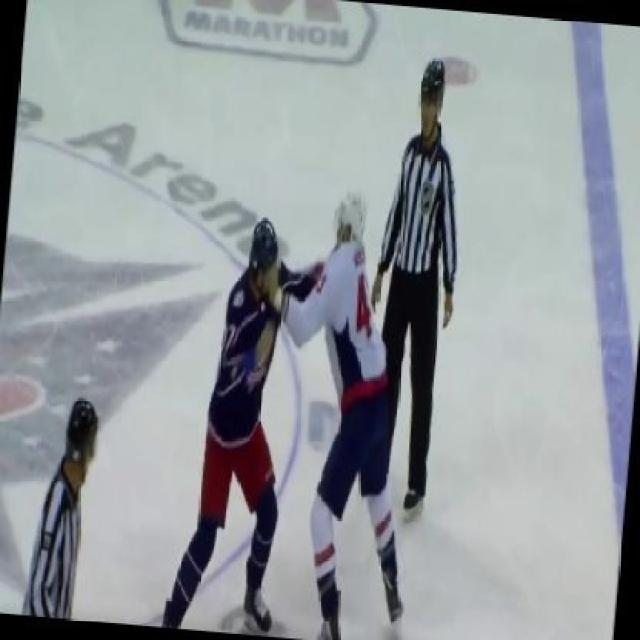fight: (160, 186, 407, 639)
non-fight: (367, 52, 463, 514), (3, 388, 117, 626)
